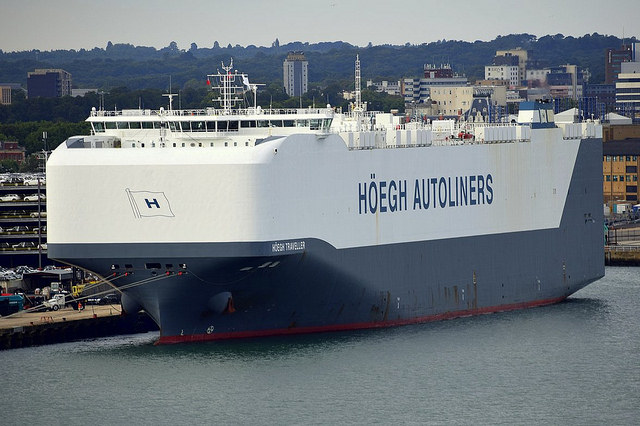PCC: (51, 60, 612, 341)
